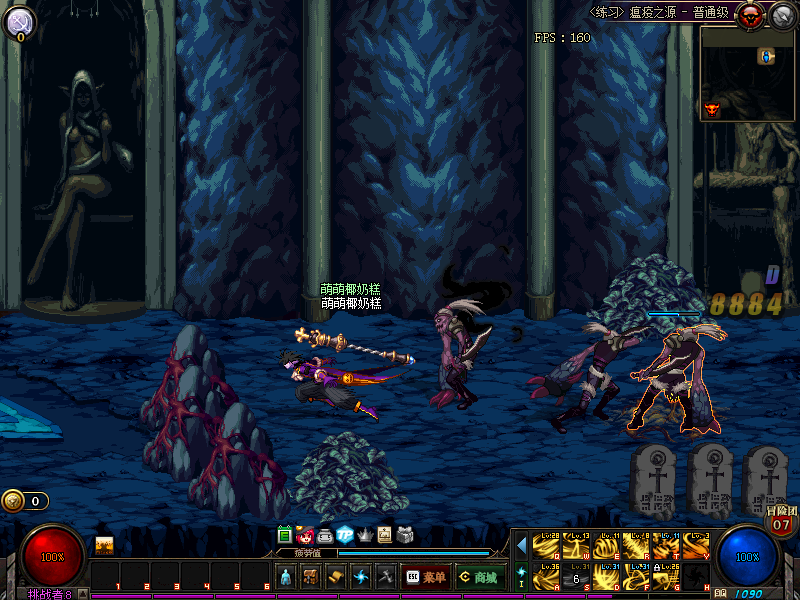StormRider: (281, 354, 380, 420)
WhitehairedBanshee: (634, 323, 710, 432), (552, 325, 619, 431), (431, 300, 487, 409)
